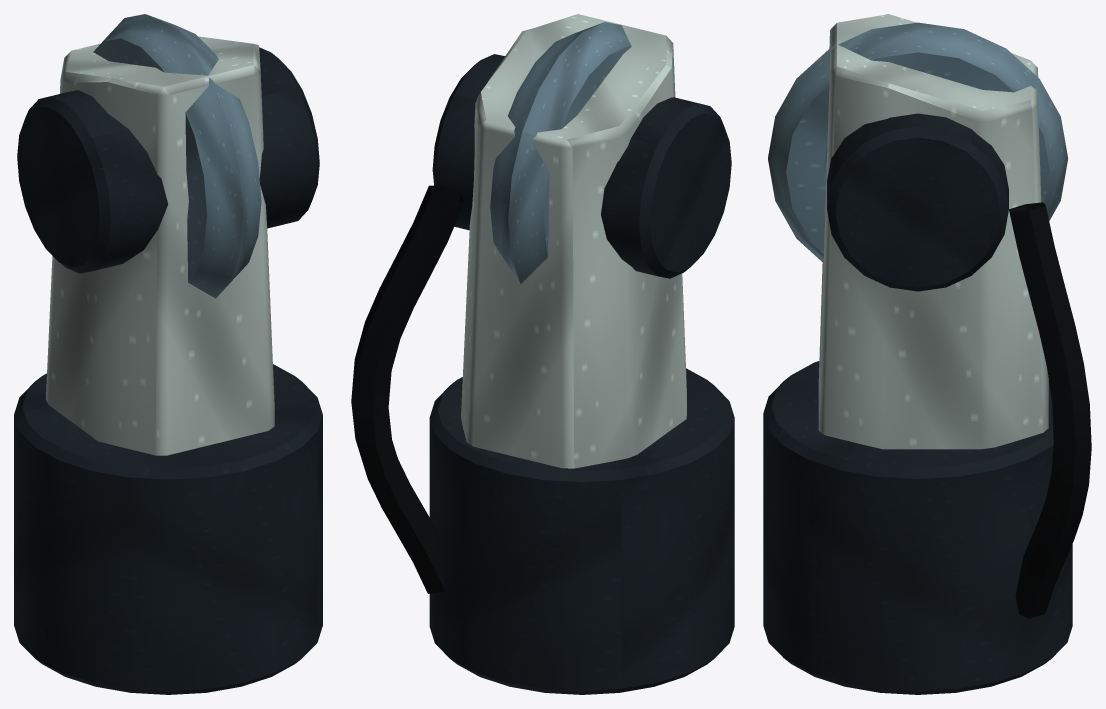
Rendered from Repair_Pedestal_V2.fbx.
The picture shows the model from 3 angles, left to right: view 1: azimuth 30°, elevation 25°; view 2: azimuth 150°, elevation 25°; view 3: azimuth 270°, elevation 25°; orthographic projection.
Parts seen in each view (by area): view 1: Repair_Pedestal_V2; view 2: Repair_Pedestal_V2; view 3: Repair_Pedestal_V2.
Part boxes in pixels (x1,y1,x2,y2): Repair_Pedestal_V2: [14, 14, 322, 694]; Repair_Pedestal_V2: [351, 14, 734, 694]; Repair_Pedestal_V2: [763, 14, 1091, 694].
Bounding box in the file's own units: 0.7346 × 1.48 × 0.7216.
